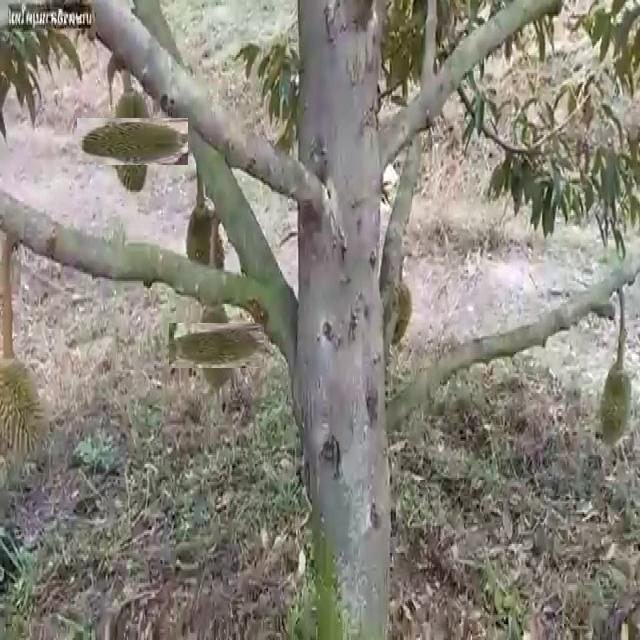durian: (92, 102, 172, 181), (181, 199, 234, 310), (181, 311, 252, 381), (598, 358, 635, 452)
